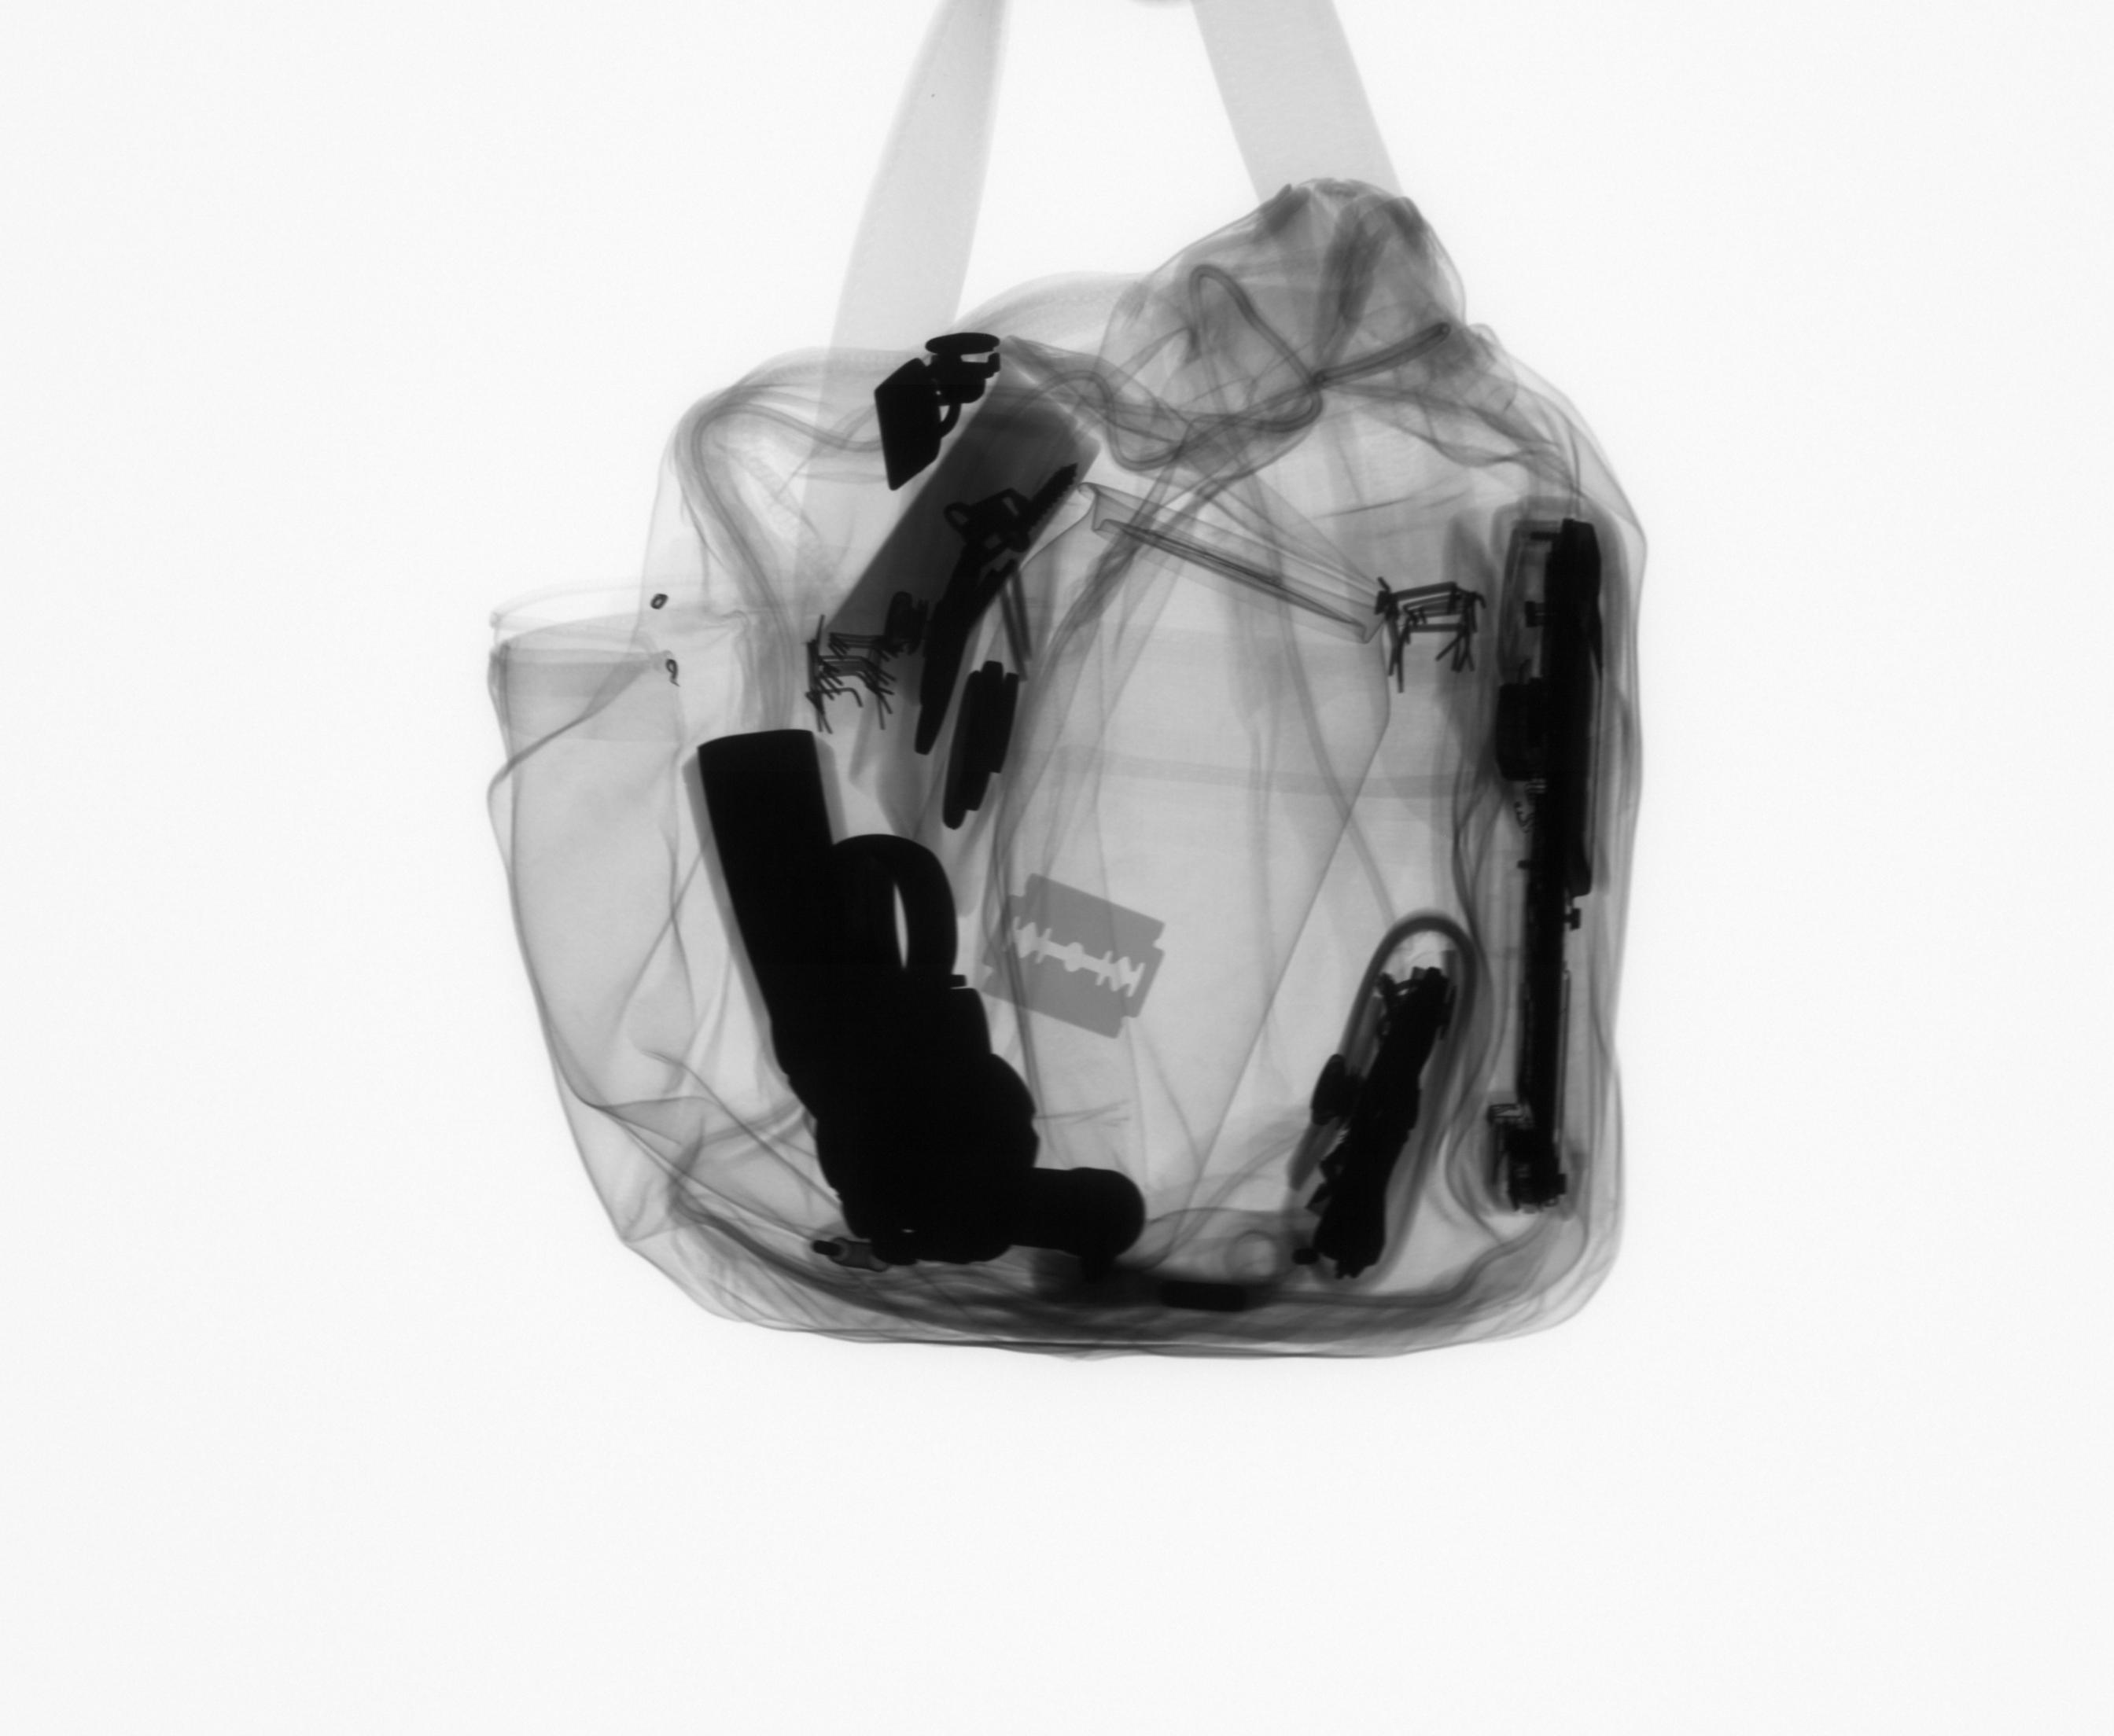Handgun: (676, 723, 1157, 1280)
RazorBlade: (974, 867, 1173, 1044)
